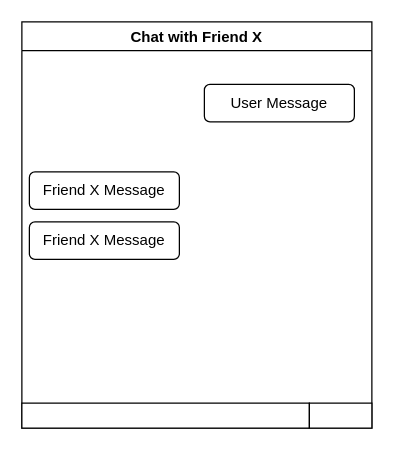
Some shapes in this 394 by 450 pixel diagram are drawn without their labels. The box of each missing label's shape, as (x1, y1, x2, y2) in pixels:
Send: (308, 402, 372, 428)
Type a message ....: (21, 402, 309, 428)
